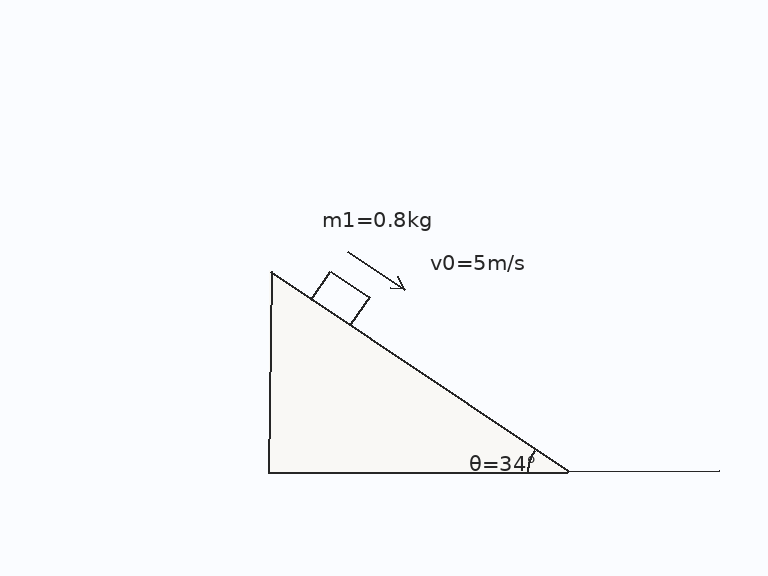block: (309, 269, 371, 327)
ramp: (268, 269, 570, 474)
